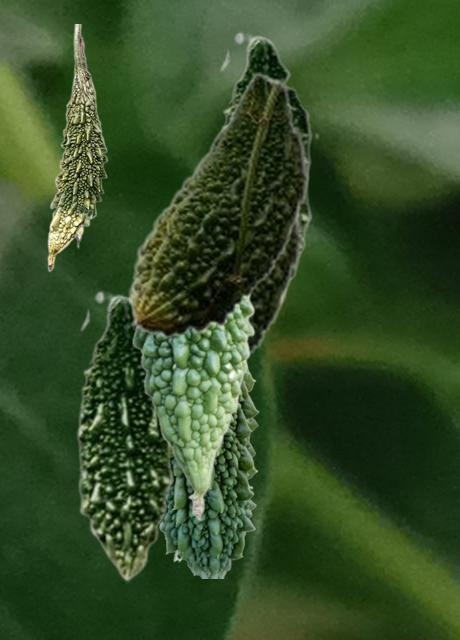ampalaya: (129, 72, 309, 338), (76, 290, 177, 582), (217, 31, 318, 309), (131, 298, 254, 521), (124, 210, 303, 361), (159, 369, 258, 577), (47, 24, 107, 271)
